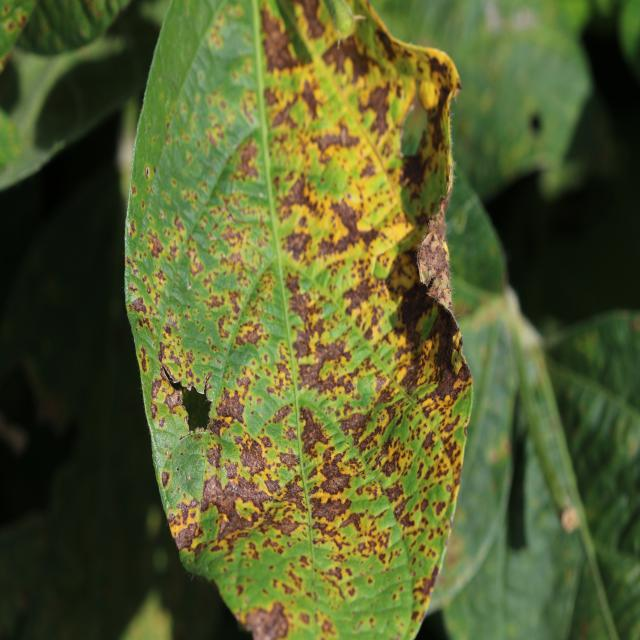Bacterial_Blight: (201, 208, 270, 294), (201, 473, 268, 528), (394, 276, 438, 350), (260, 6, 301, 71), (427, 344, 468, 405), (307, 330, 354, 375), (298, 414, 341, 463), (358, 80, 394, 133), (268, 85, 308, 132), (326, 196, 365, 243), (398, 148, 433, 200), (243, 602, 290, 639), (228, 141, 259, 189), (322, 37, 357, 78), (315, 123, 356, 156), (287, 288, 318, 330), (214, 386, 247, 423), (312, 493, 350, 523), (150, 376, 182, 411), (317, 454, 351, 486), (240, 437, 270, 473), (283, 229, 311, 260), (374, 27, 398, 62), (201, 477, 226, 509), (235, 321, 265, 347), (418, 562, 440, 597), (487, 439, 510, 465), (174, 524, 196, 551), (147, 232, 164, 259), (129, 296, 146, 315), (264, 477, 283, 494), (224, 461, 238, 479), (161, 471, 170, 489), (128, 220, 136, 238), (131, 185, 137, 196)
Soybean: (126, 0, 474, 640)
